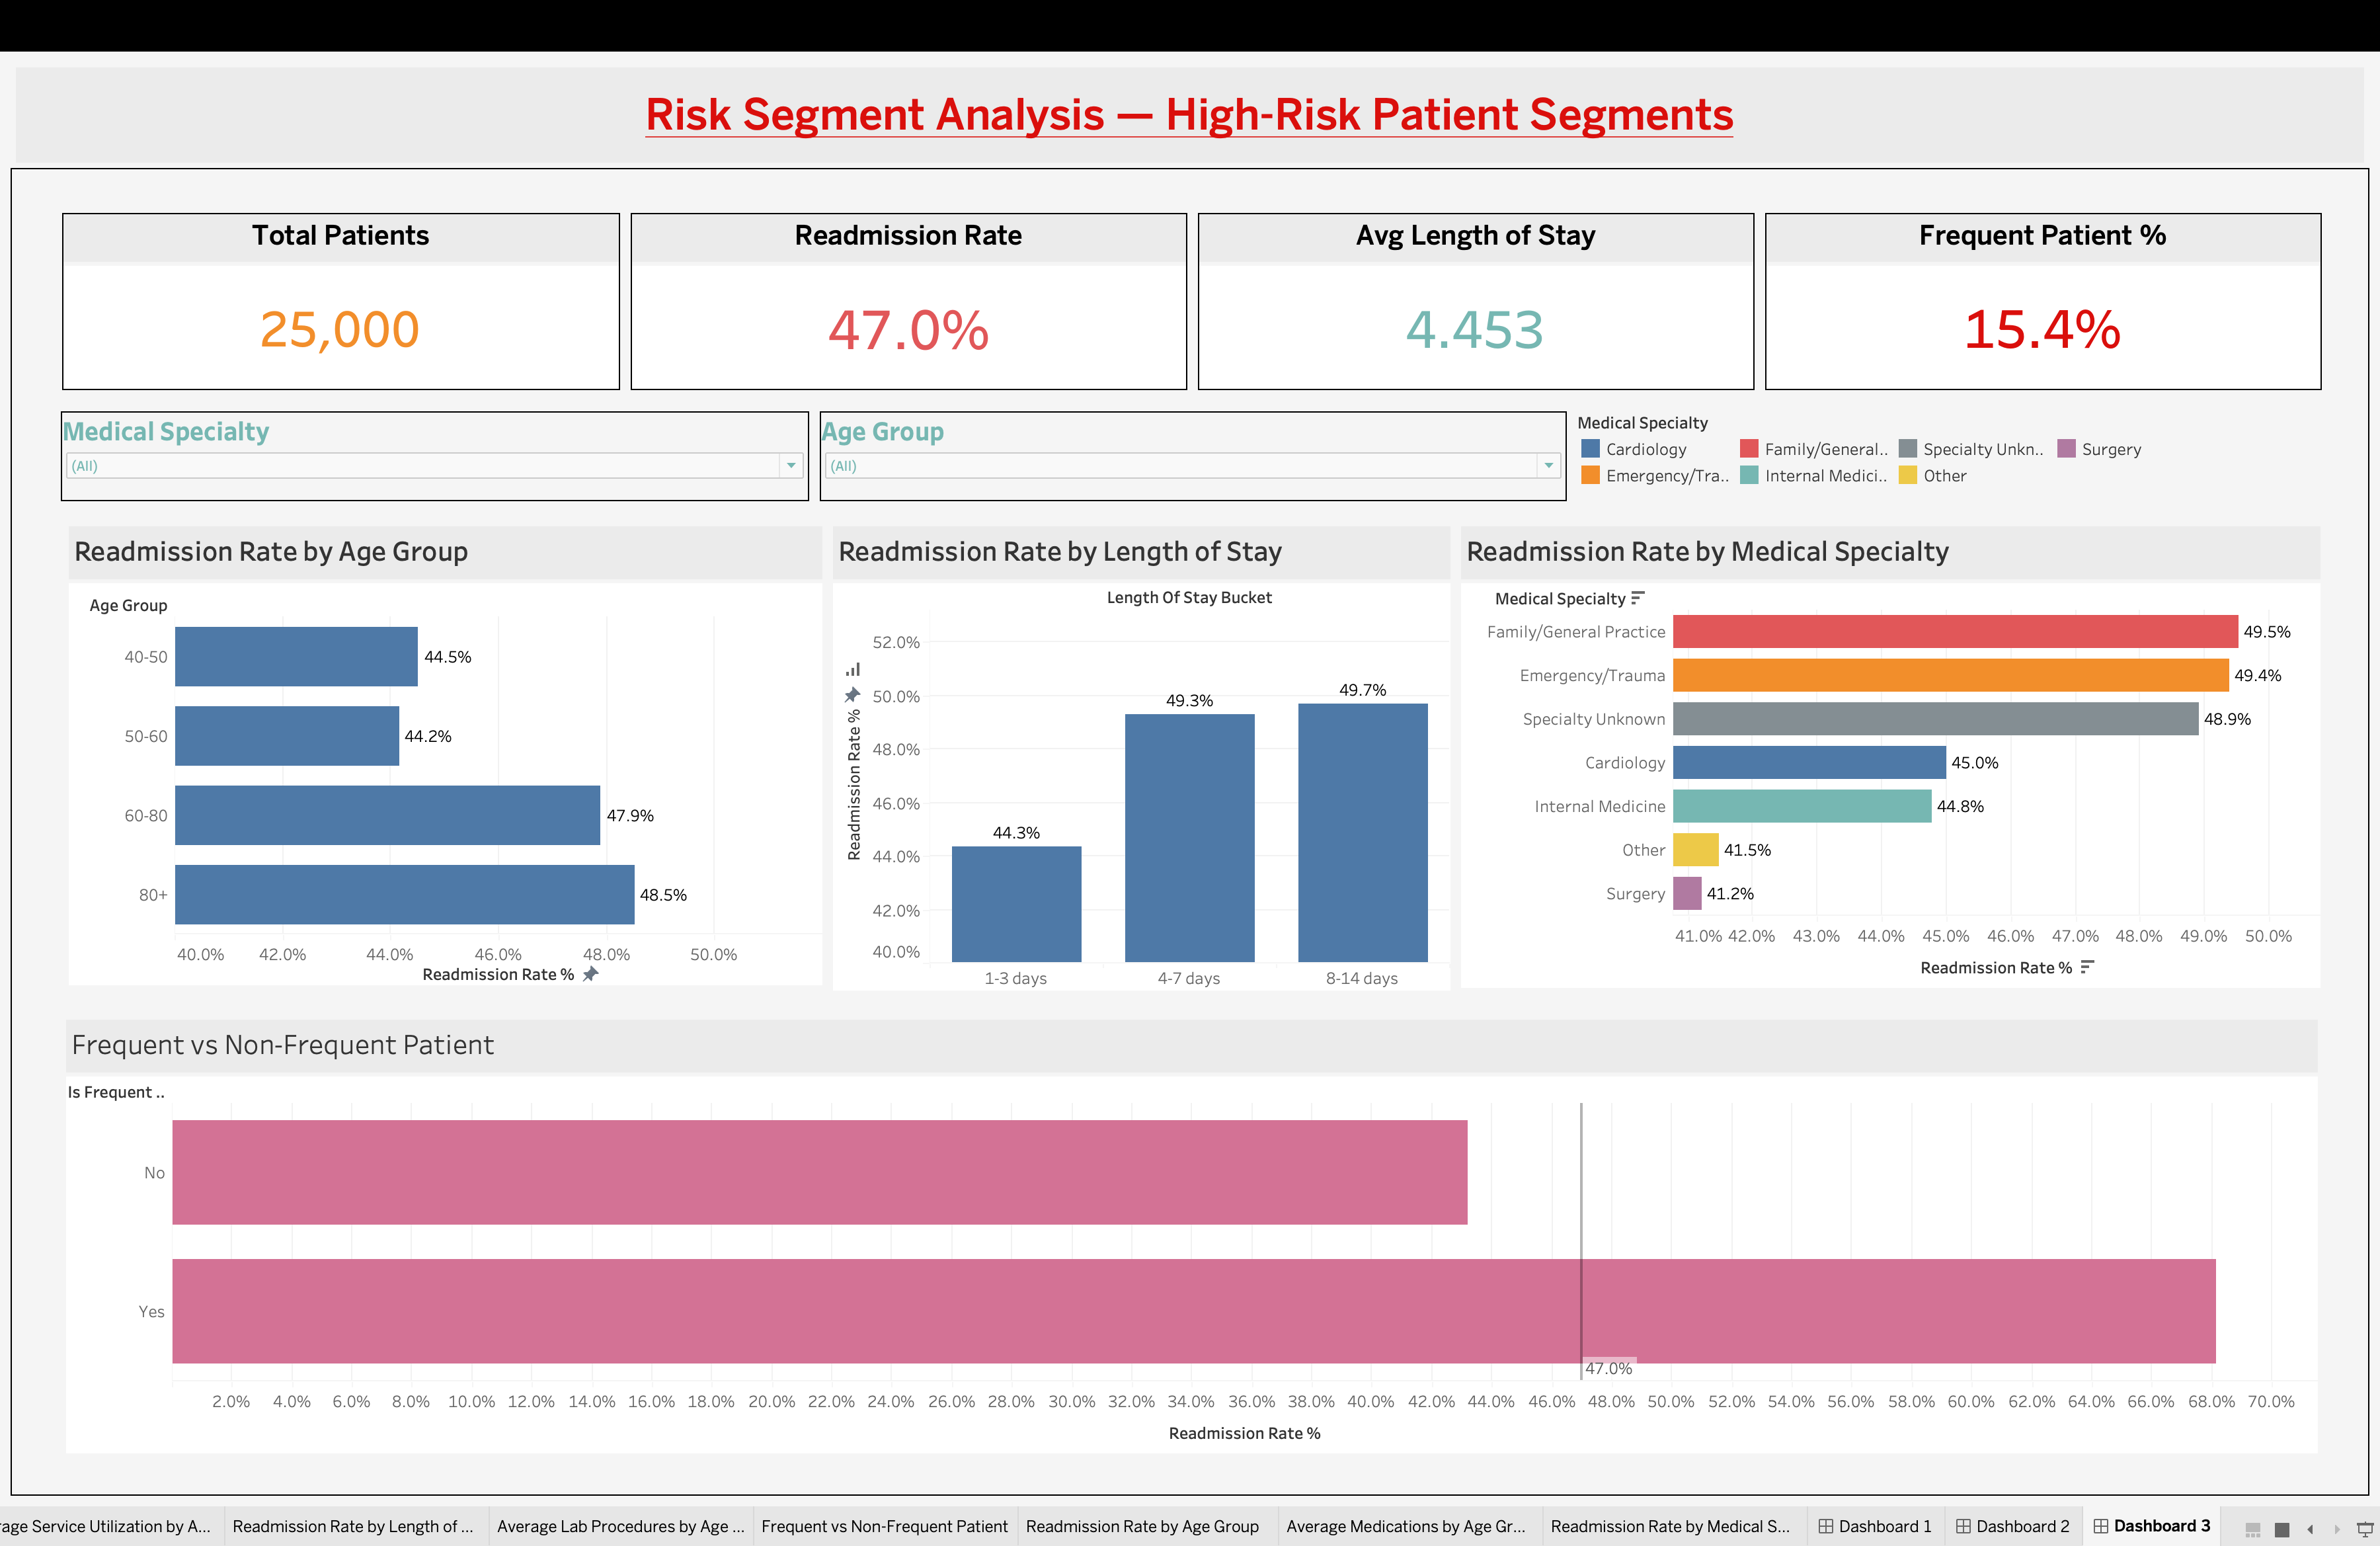

The dashboard page shown, as its layout file describes it:
{"tool":"tableau","page":{"name":"Dashboard 3","canvas":[1000,1000],"units":"permille","ordinal":2},"visuals":[{"type":"title","box":[5.3,7.7,989.4,77.1]},{"type":"worksheet","title":"KPI – Total Patients","mark":"Automatic","box":[23.8,106.9,238.8,129.1]},{"type":"worksheet","title":"KPI – Readmission Rate","mark":"Automatic","box":[262.5,106.9,238.8,129.1]},{"type":"worksheet","title":"KPI – Avg Length of Stay","mark":"Automatic","box":[501.3,106.9,238.1,129.1]},{"type":"worksheet","title":"KPI – Frequent Patient %","mark":"Automatic","box":[739.5,106.9,238.1,129.1]},{"type":"filter","title":"KPI – Avg Length of Stay","param":"[federated.0si64f10hav03x15ncmpk0dghz5k].[none:medical_specialty:ok]","box":[23.1,243.7,318.6,69.4]},{"type":"filter","title":"KPI – Avg Length of Stay","param":"[federated.0si64f10hav03x15ncmpk0dghz5k].[none:age_group:ok]","box":[341.7,243.7,318.6,69.4]},{"type":"legend","title":"Readmission Rate by Medical Specialty","param":"[federated.0si64f10hav03x15ncmpk0dghz5k].[none:medical_specialty:ok]","box":[660.3,243.7,318.6,69.4]},{"type":"worksheet","title":"Readmission Rate by Age Group","mark":"Bar","rows":["age_group"],"cols":["Calculation_3040557400469504"],"box":[26.4,322.7,322.3,326.6]},{"type":"worksheet","title":"Readmission Rate by Length of Stay","mark":"Automatic","rows":["Calculation_3040557400469504"],"cols":["length_of_stay_bucket"],"box":[348.7,322.7,253.7,326.6]},{"type":"worksheet","title":"Readmission Rate by Medical Specialty","mark":"Bar","rows":["medical_specialty"],"cols":["Calculation_3040557400469504"],"box":[602.5,322.7,375.1,326.6]},{"type":"worksheet","title":"Frequent vs Non-Frequent Patient","mark":"Automatic","rows":["is_frequent_patient"],"cols":["Calculation_3040557400469504"],"box":[25.7,661.9,950.5,325.6]}]}

Visuals, with their boxes on the dashboard's canvas, which has no fixed pixel size, in thousandths of its width and height (x1, y1, x2, y2). These are canvas units, not pixel positions in the 2380x1546 screenshot, which may show the page scaled, cropped or inside an application window:
title: Rect(5, 8, 995, 85)
"KPI – Total Patients" worksheet: Rect(24, 107, 263, 236)
"KPI – Readmission Rate" worksheet: Rect(262, 107, 501, 236)
"KPI – Avg Length of Stay" worksheet: Rect(501, 107, 739, 236)
"KPI – Frequent Patient %" worksheet: Rect(740, 107, 978, 236)
"KPI – Avg Length of Stay" filter: Rect(23, 244, 342, 313)
"KPI – Avg Length of Stay" filter: Rect(342, 244, 660, 313)
"Readmission Rate by Medical Specialty" legend: Rect(660, 244, 979, 313)
"Readmission Rate by Age Group" worksheet (Bar marks): Rect(26, 323, 349, 649)
"Readmission Rate by Length of Stay" worksheet: Rect(349, 323, 602, 649)
"Readmission Rate by Medical Specialty" worksheet (Bar marks): Rect(602, 323, 978, 649)
"Frequent vs Non-Frequent Patient" worksheet: Rect(26, 662, 976, 988)
